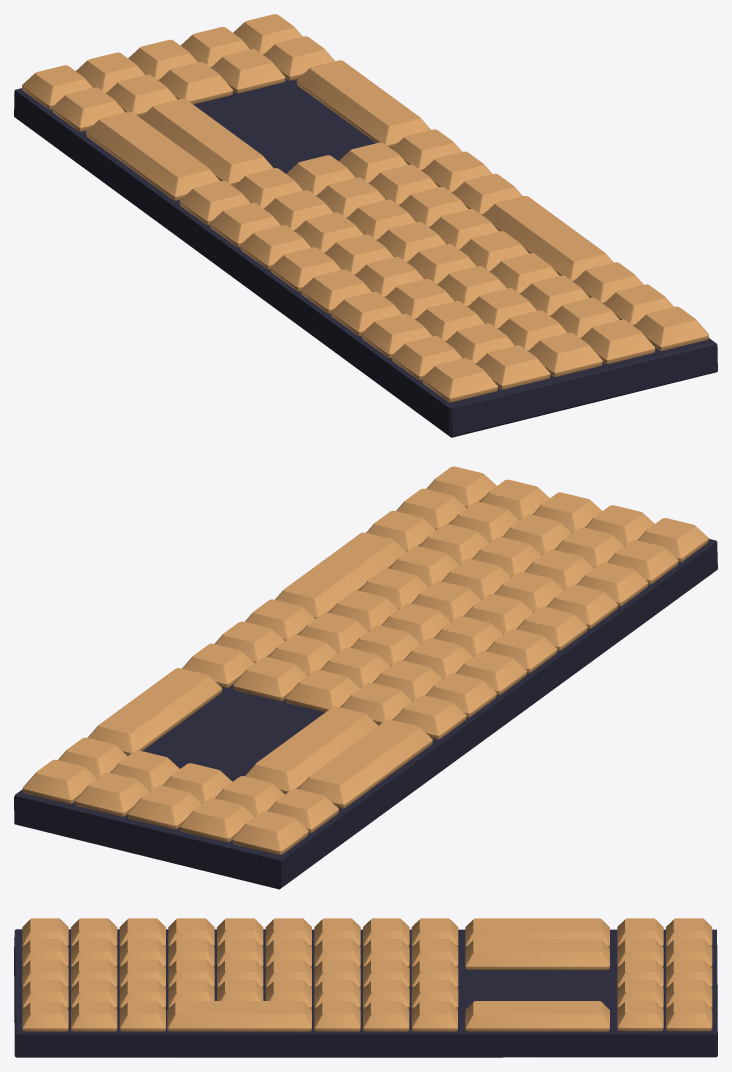
The model's file is Tastatur.gltf.
The picture shows the model from 3 angles, top to bottom: view 1: azimuth 30°, elevation 25°; view 2: azimuth 150°, elevation 25°; view 3: azimuth 270°, elevation 25°; orthographic projection. The views are drawn at different scales.
Visible parts, largest first — view 1: Cube.007; view 2: Cube.007; view 3: Cube.007.
Boxes of the visible parts, box(x1,y1,x2,y2) form: Cube.007: box(14, 14, 717, 437); Cube.007: box(14, 466, 717, 889); Cube.007: box(14, 918, 717, 1057).
Bounding box in the file's own units: 0.0995 × 0.0176 × 0.2804.
